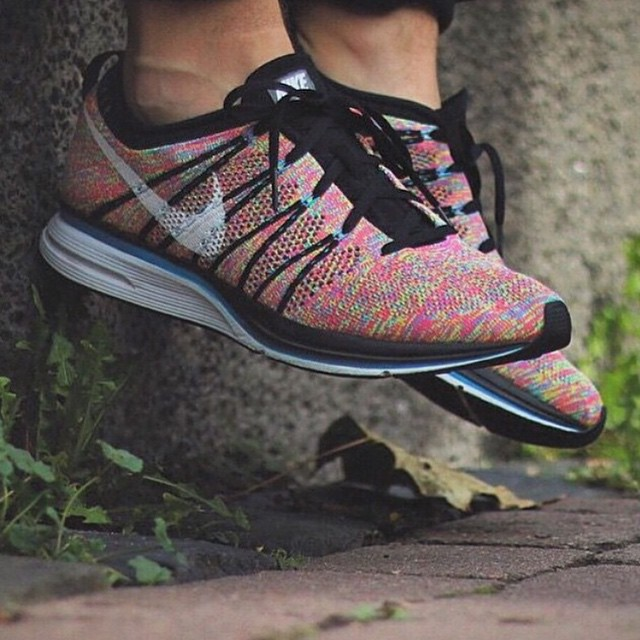sneaker: (7, 31, 609, 414), (274, 2, 623, 465)
